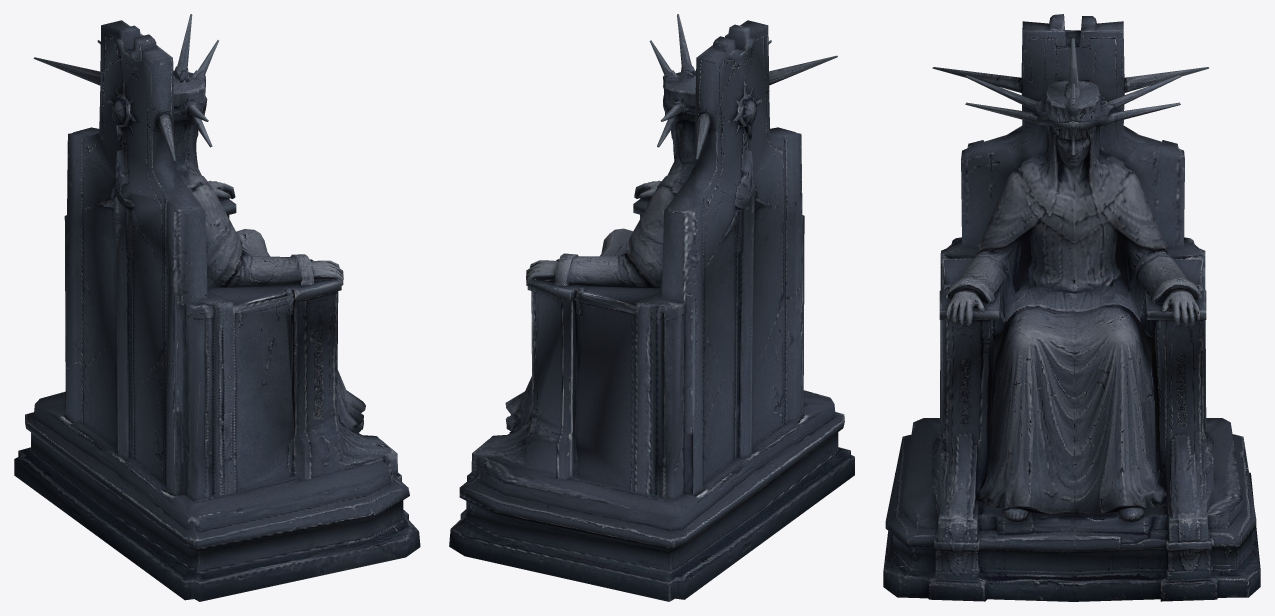
File: statue.glb
3 renders of one model, left to right at view 1: azimuth 30°, elevation 25°; view 2: azimuth 150°, elevation 25°; view 3: azimuth 270°, elevation 25°, orthographic.
Visible parts, largest first — view 1: tripo_node_2266d68c-9a2e-4601-b6f8-1401f097abcc; view 2: tripo_node_2266d68c-9a2e-4601-b6f8-1401f097abcc; view 3: tripo_node_2266d68c-9a2e-4601-b6f8-1401f097abcc.
Part boxes in pixels (x1,y1,x2,y2): tripo_node_2266d68c-9a2e-4601-b6f8-1401f097abcc: [14, 14, 420, 601]; tripo_node_2266d68c-9a2e-4601-b6f8-1401f097abcc: [449, 14, 854, 601]; tripo_node_2266d68c-9a2e-4601-b6f8-1401f097abcc: [883, 14, 1260, 601].
Bounding box in the file's own units: 0.502 × 0.998 × 0.6934.
Materials: 1 (1 with a texture image).
